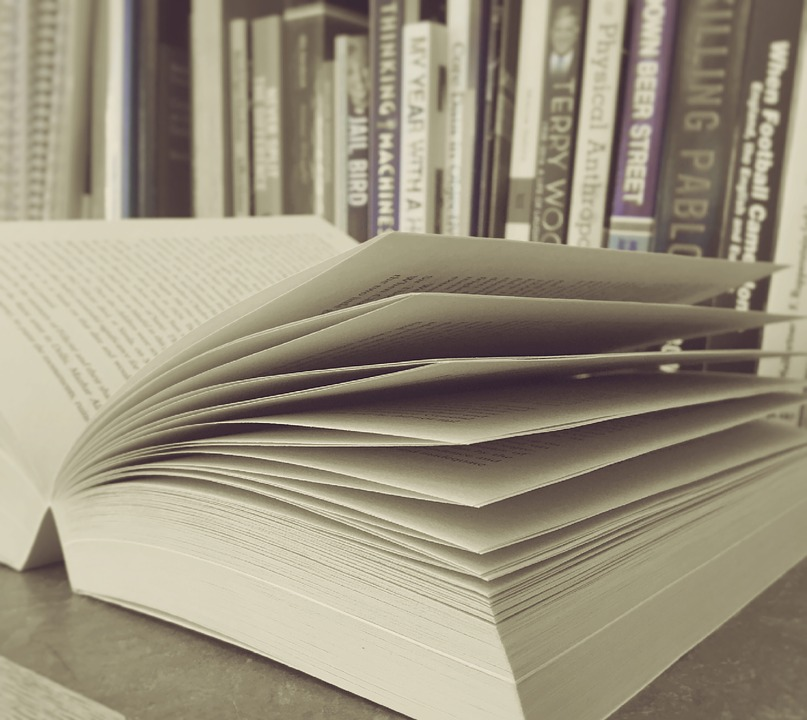Open Book: (4, 215, 807, 720)
